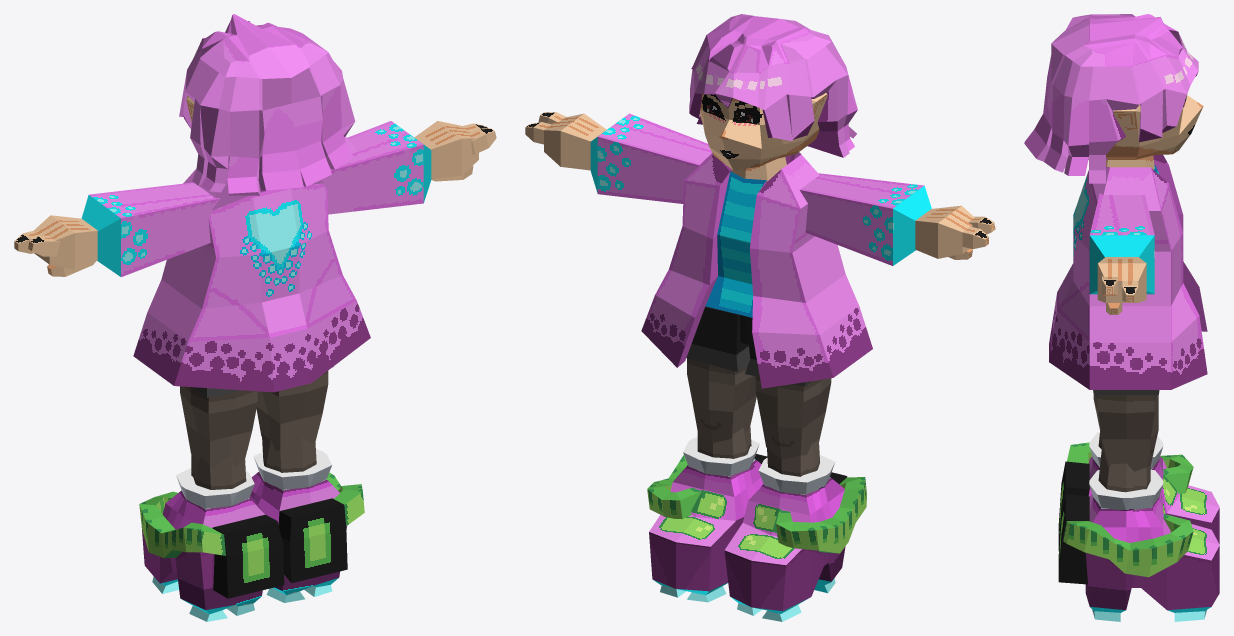
File: character.gltf
3 renders of one model, left to right at view 1: azimuth 30°, elevation 25°; view 2: azimuth 150°, elevation 25°; view 3: azimuth 270°, elevation 25°, orthographic. The views are drawn at different scales.
Parts seen in each view (by area): view 1: torso, shoe (×2), head, arm (×2), upper_leg (×2), hand (×2), lower_leg (×2); view 2: torso, shoe (×2), head, arm (×2), upper_leg (×2), hand (×2), short, lower_leg (×2); view 3: shoe (×2), torso, head, arm, upper_leg, hand, lower_leg, finger (×2), short.
Boxes of the visible parts, <box> form: torso: <box>133,168,370,392</box>; shoe (×2): <box>139,449,364,621</box>; head: <box>179,14,356,195</box>; arm (×2): <box>81,121,431,277</box>; upper_leg (×2): <box>180,371,328,467</box>; hand (×2): <box>33,121,478,269</box>; lower_leg (×2): <box>191,433,316,489</box>; torso: <box>641,152,872,388</box>; shoe (×2): <box>647,437,866,621</box>; head: <box>689,14,857,170</box>; arm (×2): <box>590,113,931,265</box>; upper_leg (×2): <box>687,358,831,459</box>; hand (×2): <box>544,113,974,258</box>; short: <box>686,306,749,372</box>; lower_leg (×2): <box>697,426,819,476</box>; shoe (×2): <box>1058,432,1219,621</box>; torso: <box>1049,154,1207,389</box>; head: <box>1024,14,1203,183</box>; arm: <box>1089,193,1154,294</box>; upper_leg: <box>1093,395,1158,471</box>; hand: <box>1097,257,1146,302</box>; lower_leg: <box>1098,448,1150,492</box>; finger (×2): <box>1102,276,1138,302</box>; short: <box>1093,390,1159,394</box>.
Bounding box in the file's own units: 2.09 × 2.42 × 0.7517.
Materials: 9 (9 with a texture image).
